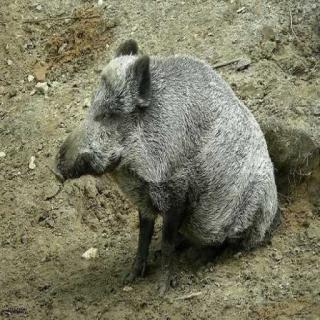Pig: (45, 26, 290, 268)
